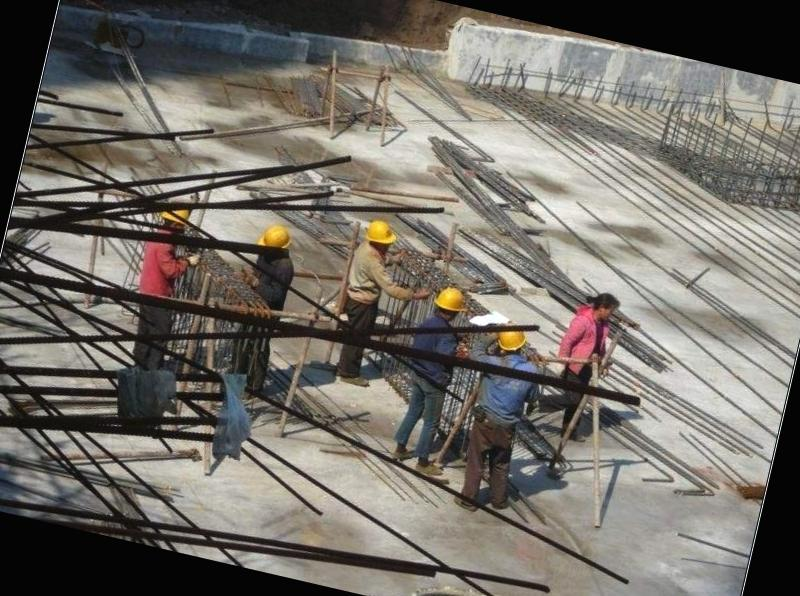helmet: (492, 320, 532, 360), (258, 217, 292, 256), (434, 284, 472, 316), (364, 220, 399, 250)
person: (448, 324, 549, 514), (384, 275, 478, 476), (323, 222, 401, 393)
